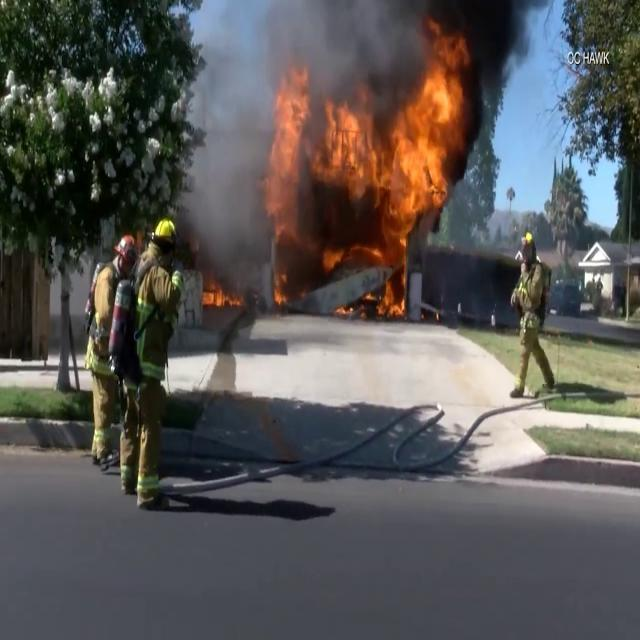Fire: (258, 42, 472, 309)
Smoke: (362, 1, 548, 123)
